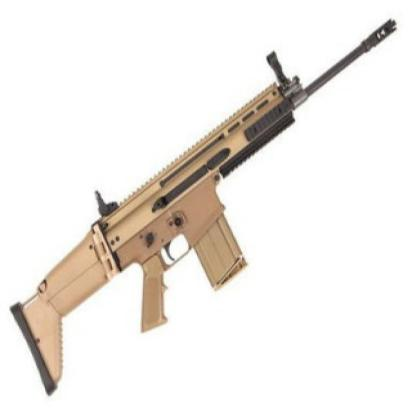Gun: (9, 12, 402, 396)
